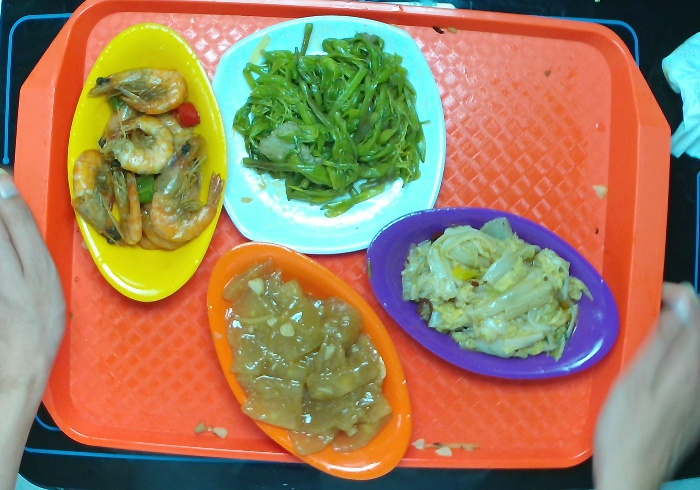RJxy-Fen_Hong_Tuo_Yuan: (364, 201, 624, 387)
RJxy-Huang_Se_Tuo_Yuan: (65, 22, 230, 310)
RJxy-Ju_Huang_Tuo_Yuan: (205, 238, 416, 481)
RJxy-Si_Fang_Die: (211, 8, 455, 264)
